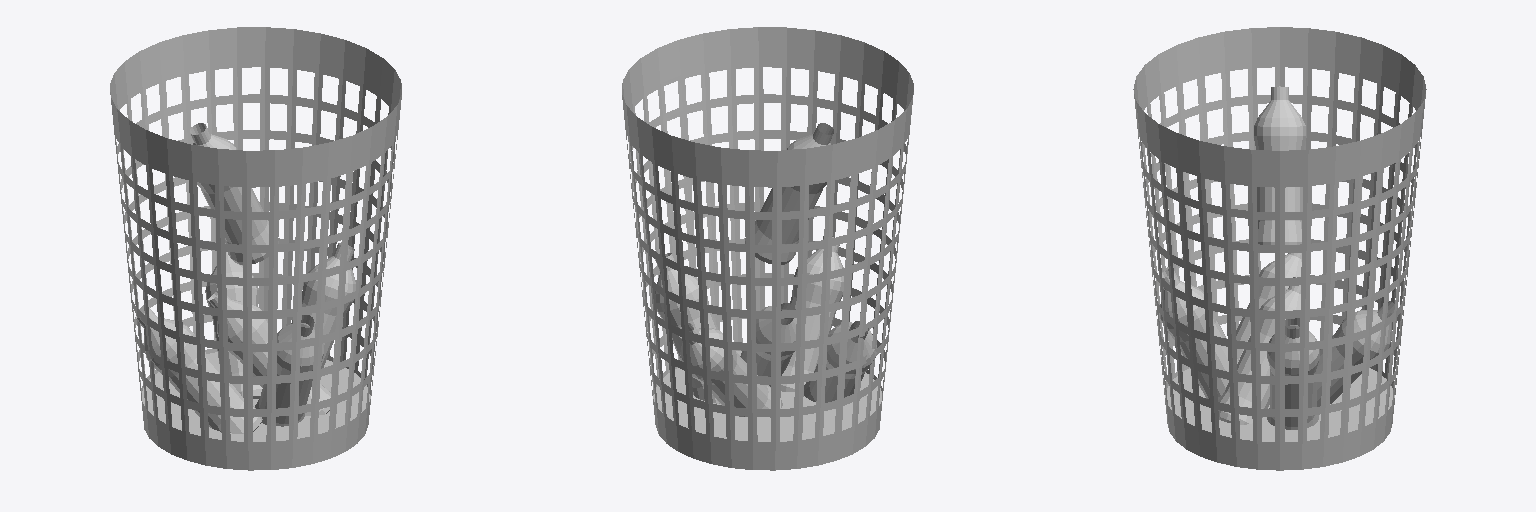
File: DustbinWithCan_000026.obj
3 renders of one model, left to right at view 1: azimuth 30°, elevation 25°; view 2: azimuth 150°, elevation 25°; view 3: azimuth 270°, elevation 25°, orthographic.
Visible parts, largest first — view 1: Cylinder, Plane.005, Plane.006, Plane.001, Plane.003, Plane.004, Plane.002; view 2: Cylinder, Plane.006, Plane.001, Plane.002, Plane.005, Plane.003, Plane.004; view 3: Cylinder, Plane.006, Plane.001, Plane.004, Plane.003, Plane.002, Plane.005.
Boxes of the visible parts, x1,y1,x2,y2 form: Cylinder: [110, 27, 401, 470]; Plane.005: [135, 307, 262, 433]; Plane.006: [190, 123, 278, 264]; Plane.001: [255, 315, 323, 426]; Plane.003: [291, 243, 355, 368]; Plane.004: [208, 291, 330, 415]; Plane.002: [205, 252, 262, 398]; Cylinder: [622, 27, 913, 470]; Plane.006: [745, 123, 833, 264]; Plane.001: [770, 236, 843, 391]; Plane.002: [679, 323, 782, 416]; Plane.005: [804, 321, 876, 402]; Plane.003: [655, 253, 719, 403]; Plane.004: [740, 303, 796, 385]; Cylinder: [1133, 27, 1426, 470]; Plane.006: [1254, 86, 1305, 244]; Plane.001: [1160, 269, 1238, 399]; Plane.004: [1218, 277, 1300, 424]; Plane.003: [1267, 318, 1319, 429]; Plane.002: [1317, 301, 1394, 406]; Plane.005: [1236, 253, 1301, 359].
Size of the model in its own units: 2.6 by 3.27 by 2.6.